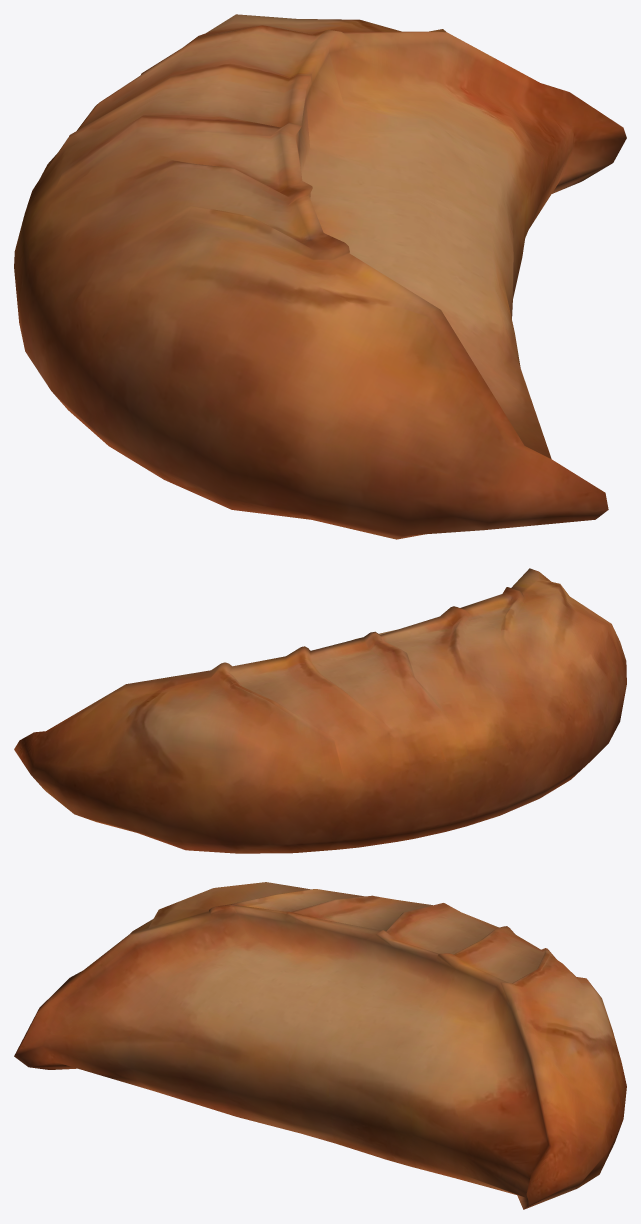
File: momo.glb
The picture shows the model from 3 angles, top to bottom: view 1: azimuth 30°, elevation 25°; view 2: azimuth 150°, elevation 25°; view 3: azimuth 270°, elevation 25°; orthographic projection. The views are drawn at different scales.
Bounding box in the file's own units: 0.2602 × 0.0926 × 0.3004.
Materials: 1 (1 with a texture image).
